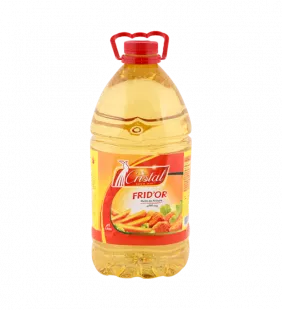CRISTAL: (83, 20, 197, 284)
